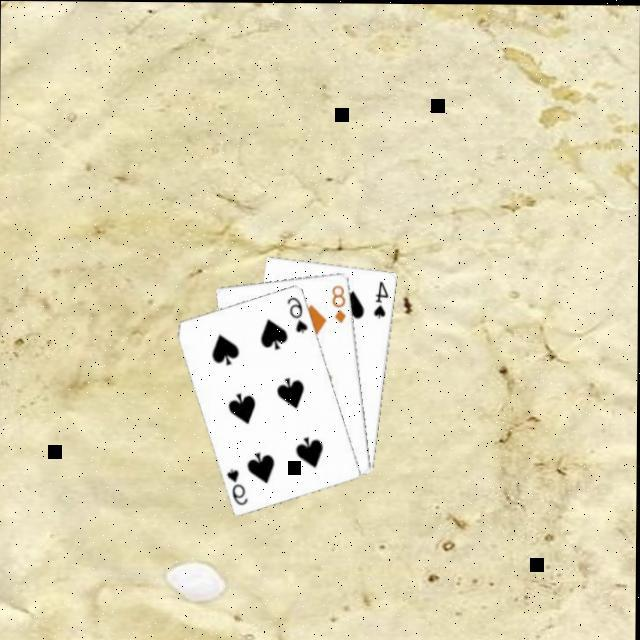4S: (369, 278, 391, 320)
6S: (282, 294, 309, 336), (222, 466, 249, 508)
8D: (327, 282, 347, 326)
